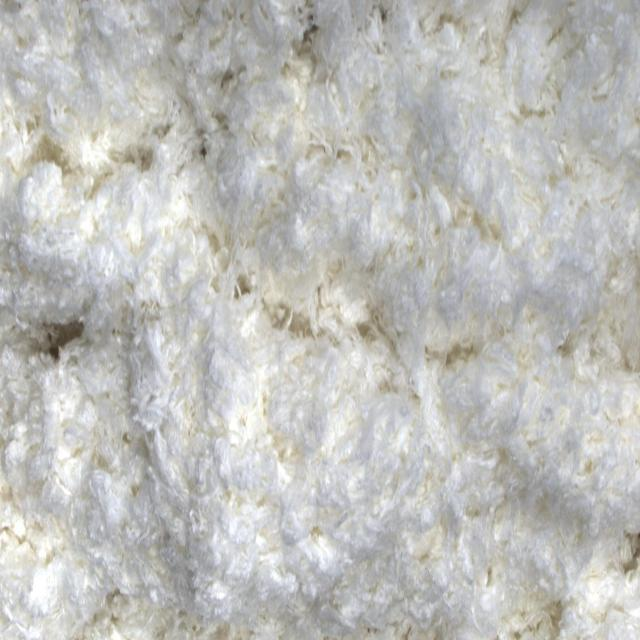dust: (42, 319, 99, 360)
